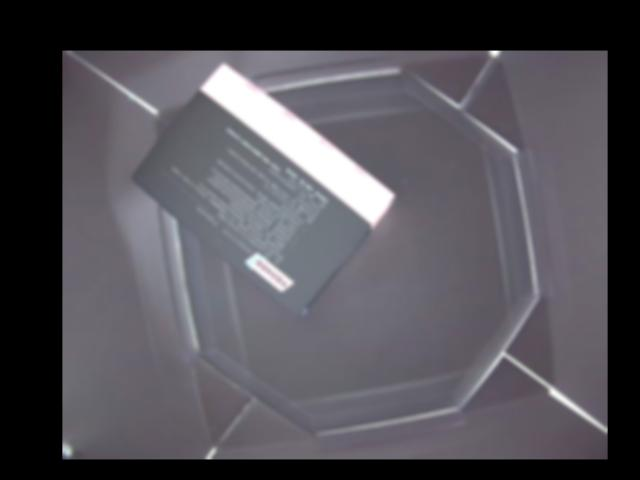Medicine: (132, 63, 396, 316)
